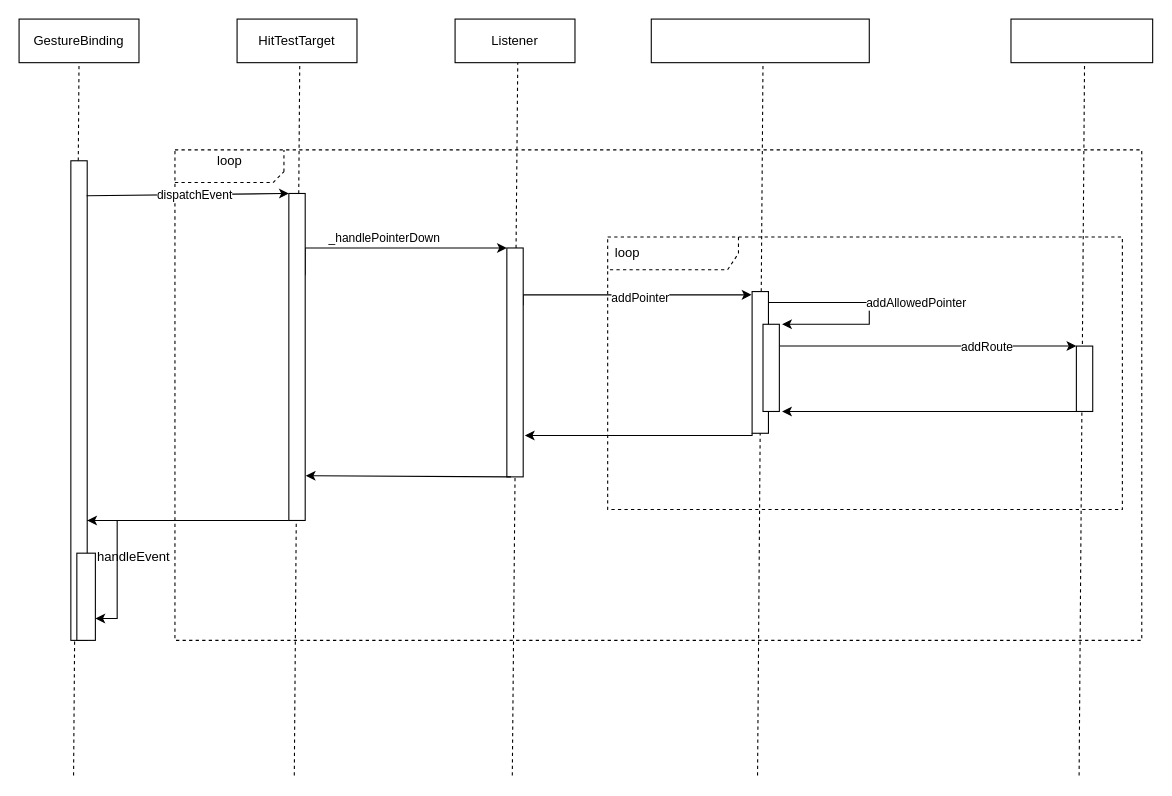
Image size: 1172x796. Some labels were removed from this diagram. The centre of each missing label's shape, as x and y in pixels:
"PointerRouter" goes at point (1081, 40).
"PrimaryPointerGestureRecognizer" goes at point (759, 40).
